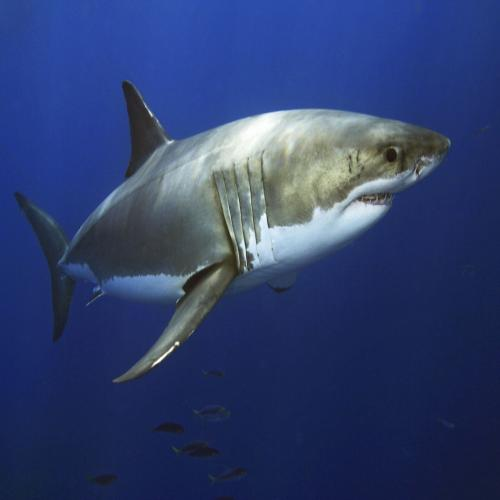shark-endangered: (40, 82, 454, 339)
